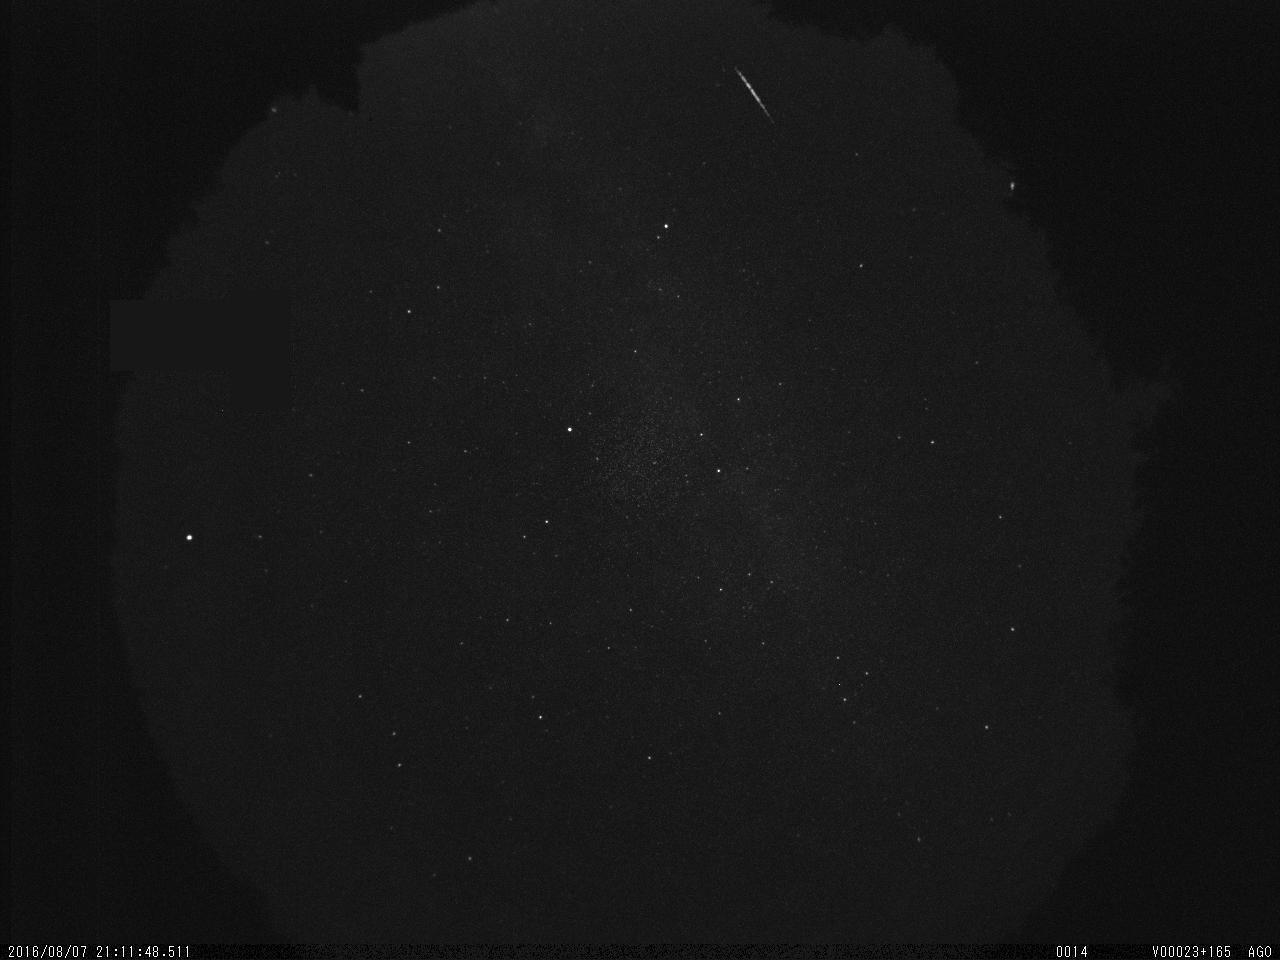meteor: (720, 59, 784, 133)
